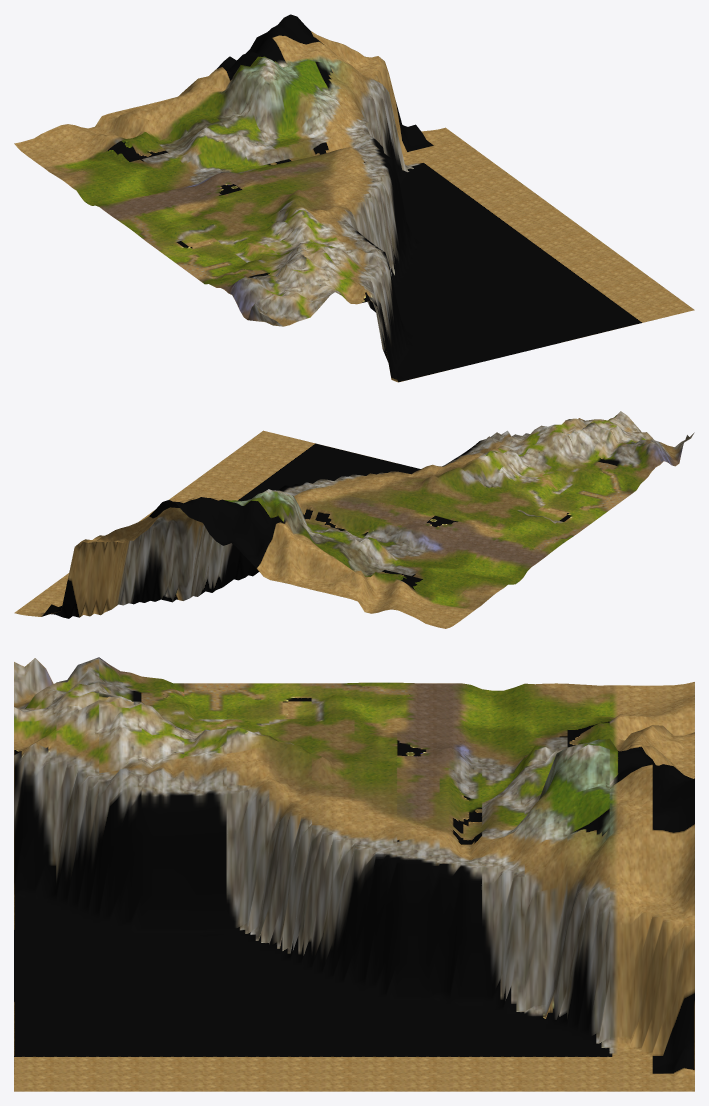
The model's file is terrain.glb.
The picture shows the model from 3 angles, top to bottom: view 1: azimuth 30°, elevation 25°; view 2: azimuth 150°, elevation 25°; view 3: azimuth 270°, elevation 25°; orthographic projection. The views are drawn at different scales.
Visible parts, largest first — view 1: terrain_3_2; view 2: terrain_3_2; view 3: terrain_3_2.
Boxes of the visible parts, x1,y1,x2,y2 form: terrain_3_2: [14, 14, 694, 382]; terrain_3_2: [14, 411, 694, 628]; terrain_3_2: [14, 657, 694, 1091].
Size of the model in its own units: 512 by 172 by 512.
1 material, 1 textured.
